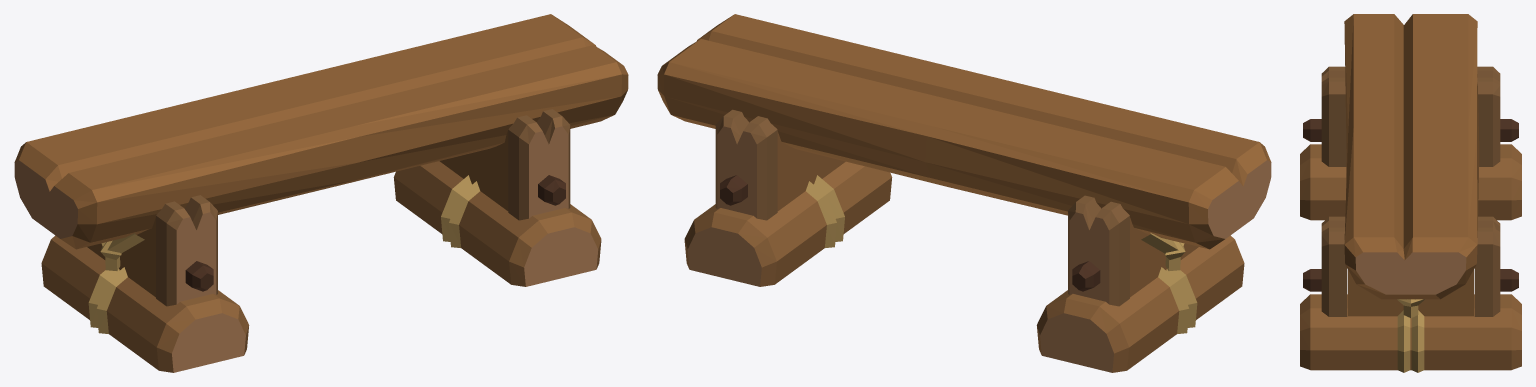
Rendered from hearth-log-bench-c3c5ec.glb.
The picture shows the model from 3 angles, left to right: view 1: azimuth 30°, elevation 25°; view 2: azimuth 150°, elevation 25°; view 3: azimuth 270°, elevation 25°; orthographic projection. The views are drawn at different scales.
Bounding box in the file's own units: 1.5 × 0.45 × 0.6.
